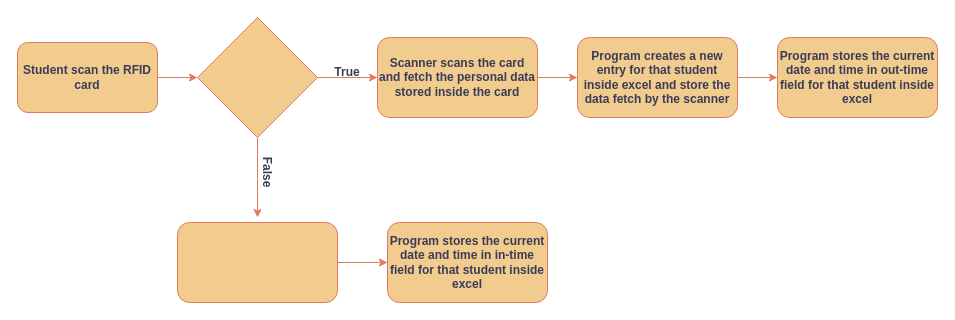
This 955x320 diagram has some shape labels left out. Here are the shapes that lost their labels. From the top down, the box of each, then its label:
(196, 16, 318, 138): If the student is leaving the hostel
(176, 222, 338, 302): Program finds the previous entry of that student inside excel
